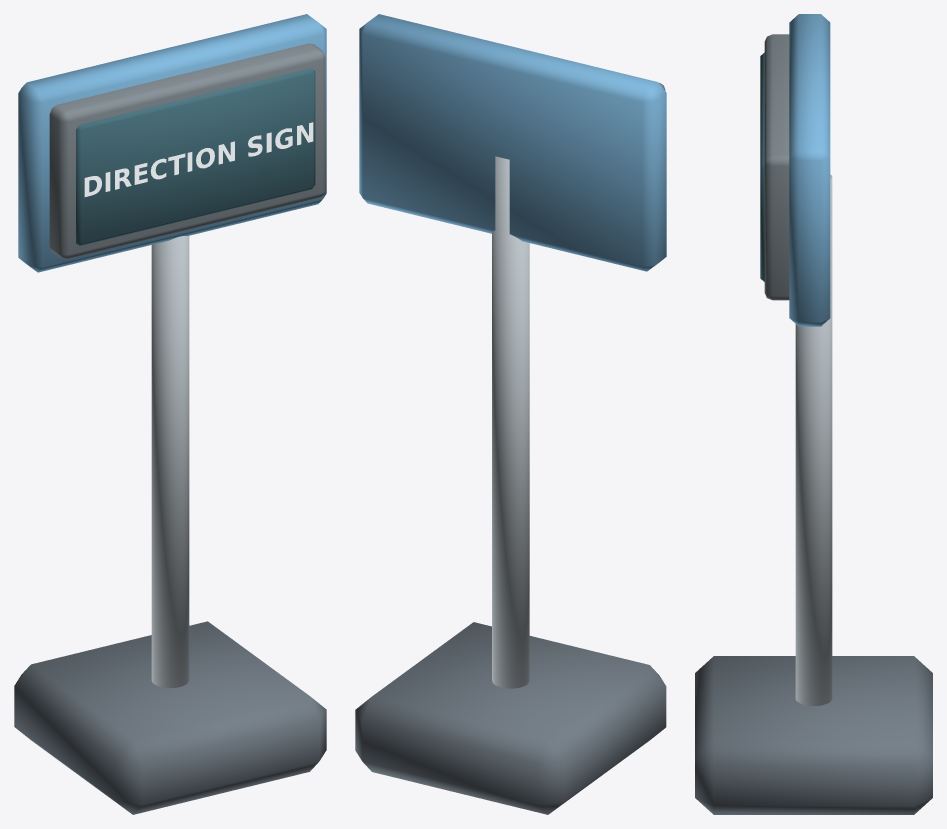
File: direction_sign_ultra.glb
3 renders of one model, left to right at view 1: azimuth 30°, elevation 25°; view 2: azimuth 150°, elevation 25°; view 3: azimuth 270°, elevation 25°, orthographic.
Parts seen in each view (by area): view 1: Base_dark_legacy_0, SignPlate_glass, Pole_steel_legacy_1, Sign_blue_legacy_2, ScreenMount_frame, TypeLabel_white; view 2: Sign_blue_legacy_2, Base_dark_legacy_0, Pole_steel_legacy_1; view 3: Base_dark_legacy_0, Pole_steel_legacy_1, Sign_blue_legacy_2, ScreenMount_frame, SignPlate_glass.
Part boxes in pixels (left/top/right/bottom): Base_dark_legacy_0: left=14, top=621, right=326, bottom=814; SignPlate_glass: left=76, top=68, right=315, bottom=245; Pole_steel_legacy_1: left=151, top=236, right=189, bottom=688; Sign_blue_legacy_2: left=18, top=14, right=326, bottom=272; ScreenMount_frame: left=49, top=43, right=325, bottom=258; TypeLabel_white: left=84, top=122, right=313, bottom=196; Sign_blue_legacy_2: left=359, top=14, right=666, bottom=271; Base_dark_legacy_0: left=355, top=622, right=666, bottom=814; Pole_steel_legacy_1: left=492, top=156, right=529, bottom=688; Base_dark_legacy_0: left=695, top=656, right=932, bottom=814; Pole_steel_legacy_1: left=795, top=174, right=832, bottom=705; Sign_blue_legacy_2: left=789, top=14, right=830, bottom=326; ScreenMount_frame: left=764, top=34, right=789, bottom=300; SignPlate_glass: left=760, top=52, right=764, bottom=281.
Size of the model in its own units: 0.82 by 1.86 by 0.58.
